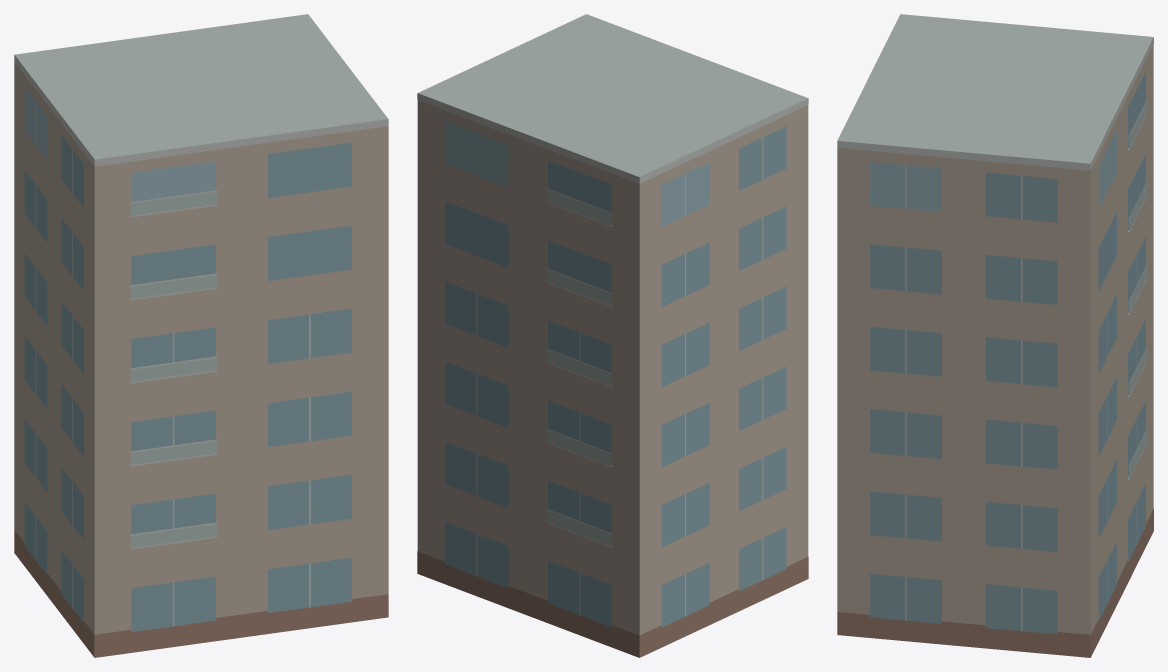
File: survey-upis-32652865.glb
3 views of the same model, side by side, from view 1: azimuth 30°, elevation 25°; view 2: azimuth 150°, elevation 25°; view 3: azimuth 270°, elevation 25° (orthographic). The views are drawn at different scales.
Visible parts, largest first — view 1: survey-upis-32652865.tmp; view 2: survey-upis-32652865.tmp; view 3: survey-upis-32652865.tmp.
Boxes of the visible parts, x1,y1,x2,y2 form: survey-upis-32652865.tmp: (14,14,388,657); survey-upis-32652865.tmp: (417,14,808,657); survey-upis-32652865.tmp: (837,14,1153,657).
Bounding box in the file's own units: 11.19 × 17.2 × 10.
